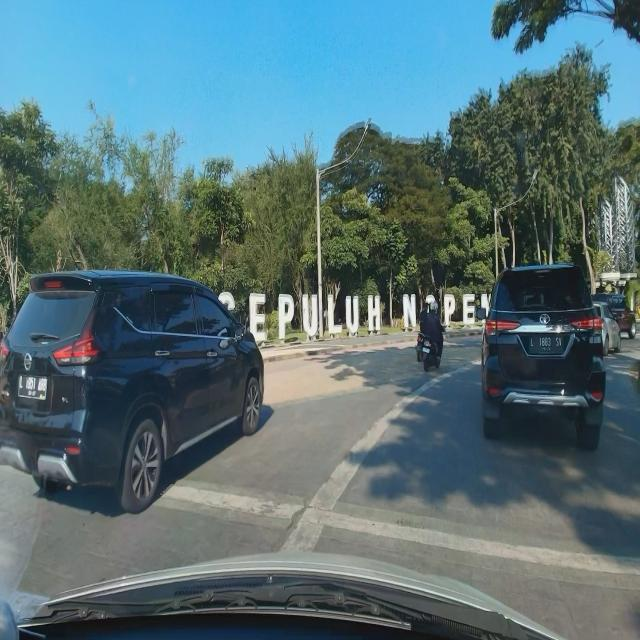car: (0, 267, 265, 515), (478, 257, 608, 455)
license-plate: (18, 374, 48, 402), (529, 334, 564, 356)
